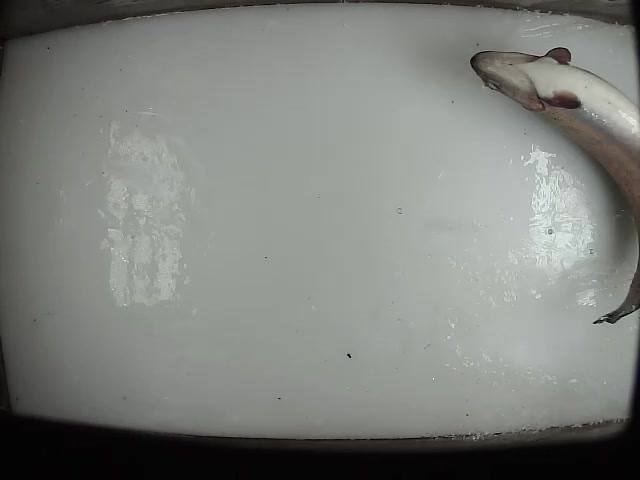fish: (466, 45, 640, 328)
